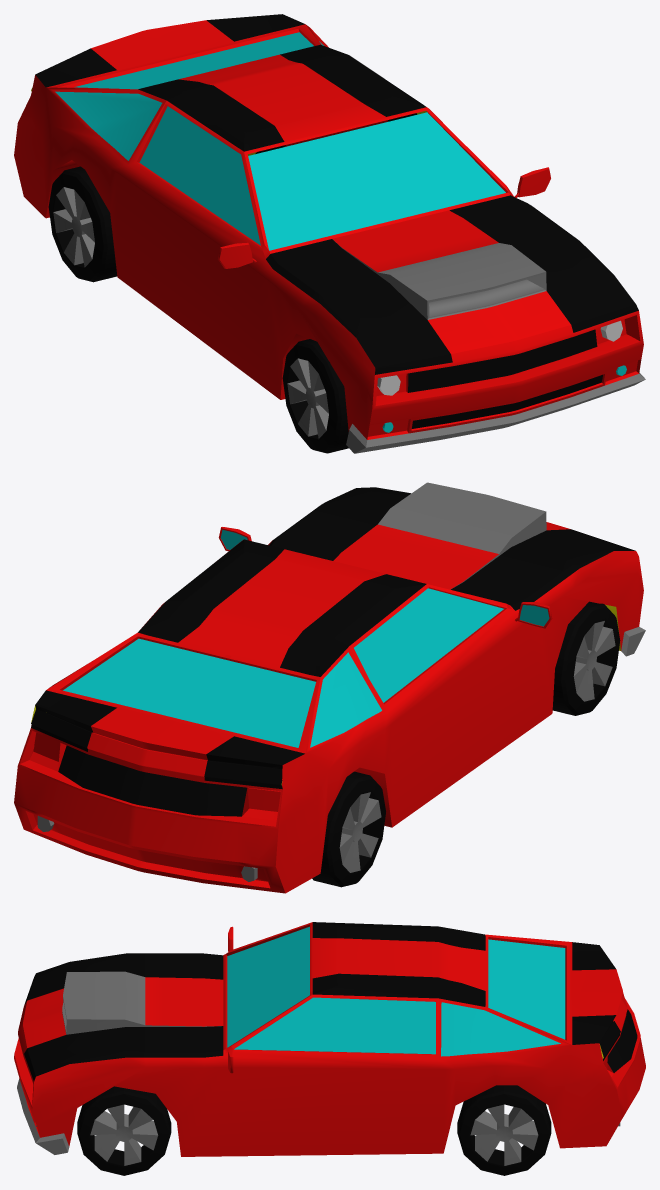
Rendered from red_car_.fbx.
3 views of the same model, one above another, from view 1: azimuth 30°, elevation 25°; view 2: azimuth 150°, elevation 25°; view 3: azimuth 270°, elevation 25° (orthographic). The views are drawn at different scales.
Parts seen in each view (by area): view 1: red_car_body, rc_trye_5, rc_trye_4, left_mirror_red1, left_mirror_red; view 2: red_car_body, rc_trye_4, rc_trye_5, left_mirror_red1; view 3: red_car_body, rc_trye_6, rc_trye_1.
Boxes of the visible parts, bbox=[...] form: red_car_body: bbox=[14, 14, 645, 453]; rc_trye_5: bbox=[48, 166, 117, 282]; rc_trye_4: bbox=[282, 339, 348, 453]; left_mirror_red1: bbox=[218, 242, 256, 268]; left_mirror_red: bbox=[515, 167, 550, 197]; red_car_body: bbox=[14, 482, 645, 893]; rc_trye_4: bbox=[552, 601, 620, 715]; rc_trye_5: bbox=[312, 771, 385, 887]; left_mirror_red1: bbox=[515, 602, 552, 628]; red_car_body: bbox=[14, 922, 645, 1156]; rc_trye_6: bbox=[457, 1085, 551, 1175]; rc_trye_1: bbox=[77, 1086, 171, 1175].
Bounding box in the file's own units: 278 × 163 × 562.
